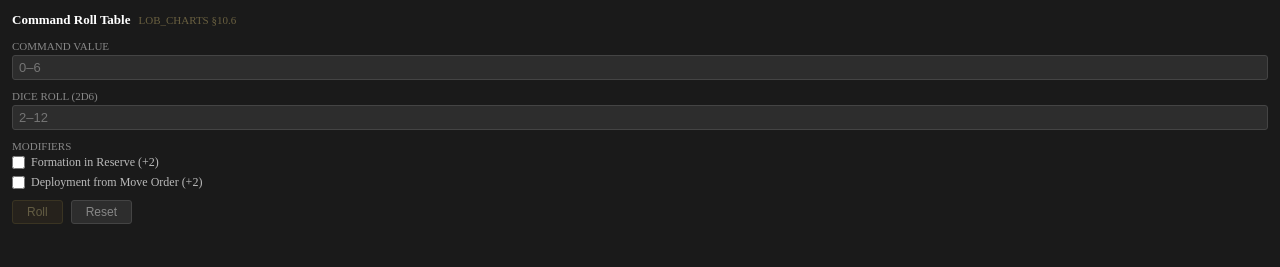
Test case: CommandRollPanel › displays loading state while POST is in flight
This screenshot has width=1280, height=267.
Type "3" into the number field labelled "Command Value" at point(640, 68), box [12, 55, 1268, 80]
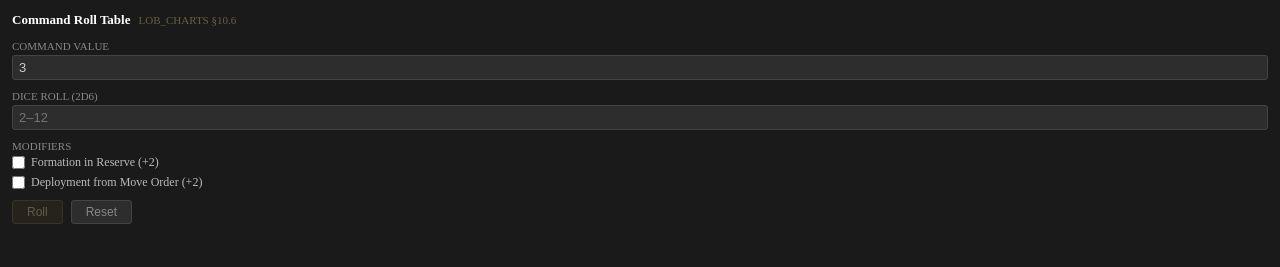
Type "9" into the number field labelled "Dice Roll (2d6)" at point(640, 118), box [12, 105, 1268, 130]
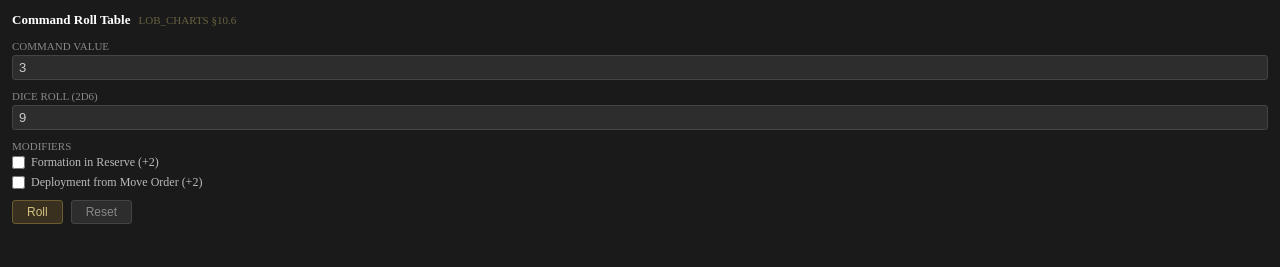
Click the button "Roll" at point(37, 212), box [12, 200, 63, 224]
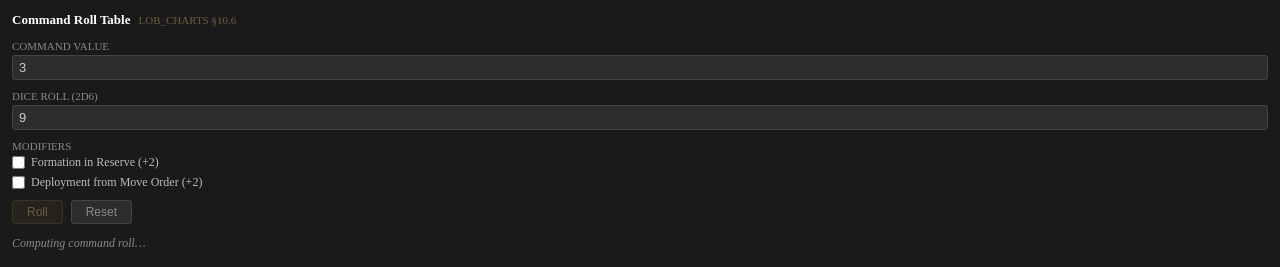
Expected: the text "Computing command roll" is shown, [12, 236, 146, 250]
